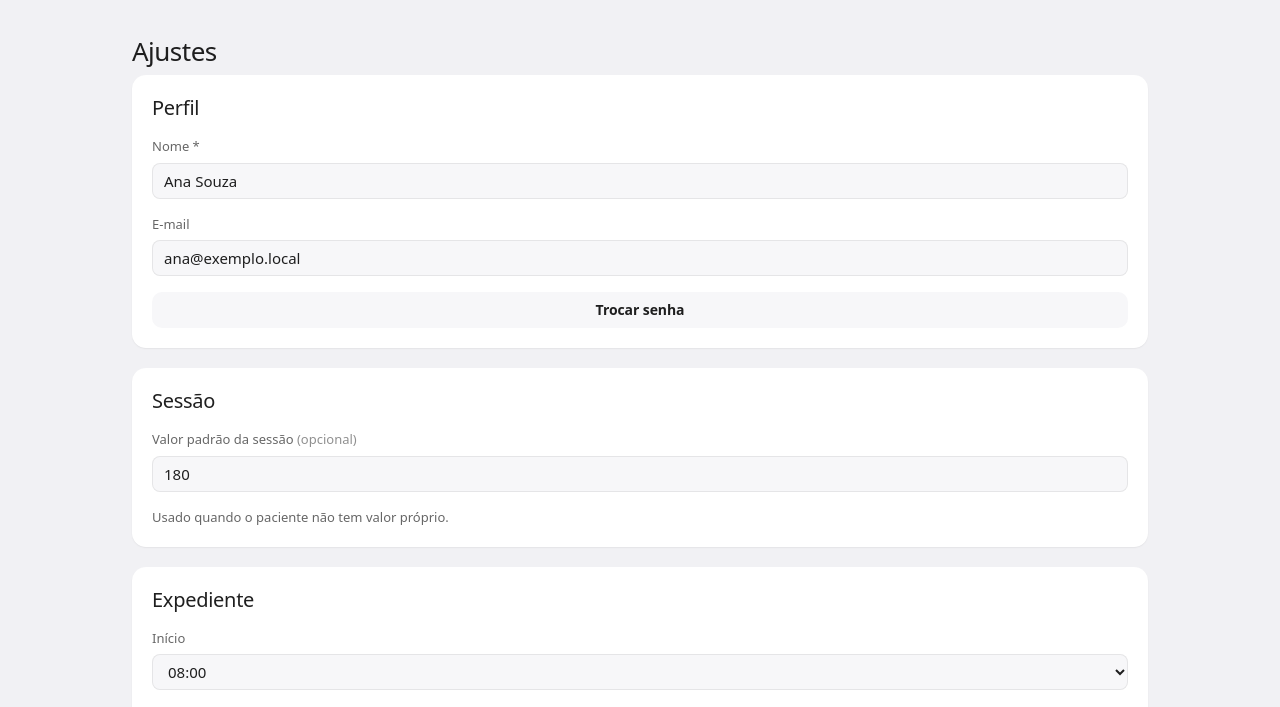
Test: AjustesPage › Trocar senha fica no Perfil depois do E-mail e abre o dialogo
Expected: the heading "Ajustes" is shown, [132,33,217,69]
Expected: the field showing "Ana Souza" is shown, [152,162,1128,198]
Click the button "Trocar senha" at (640, 310), box [152,292,1128,328]
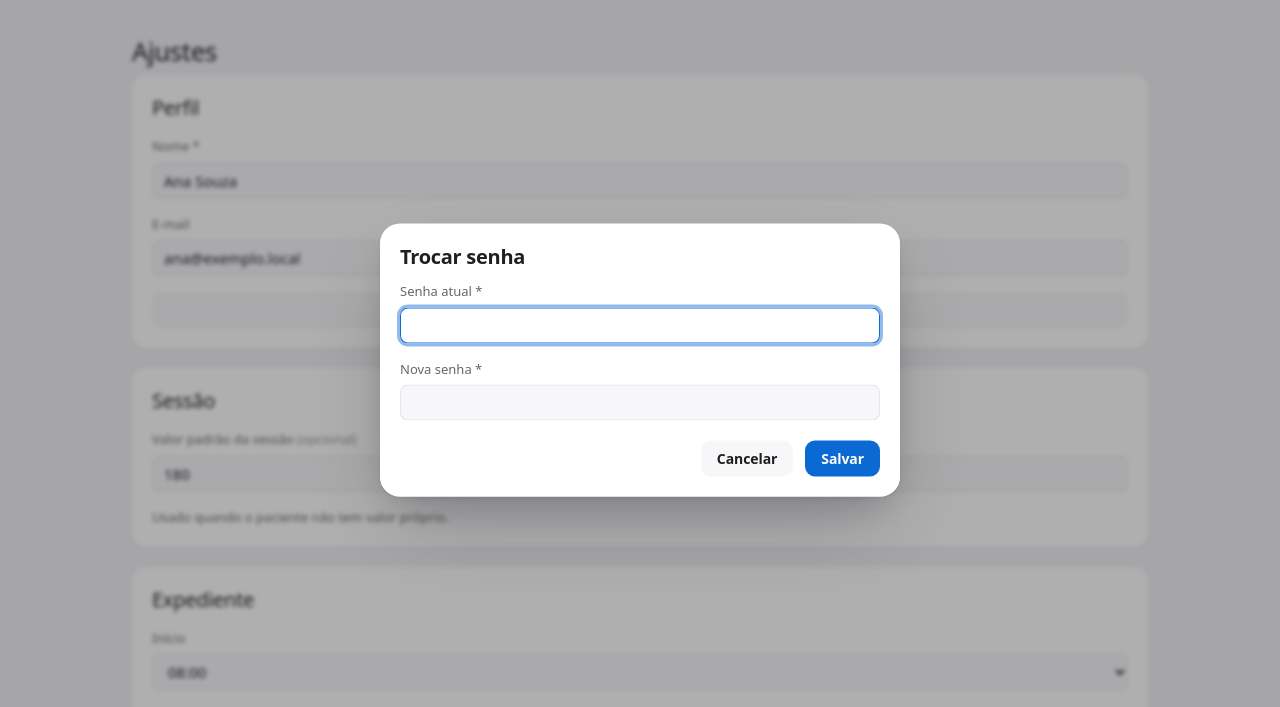
Now the dialog "Trocar senha" is shown, box [380,224,900,496]
